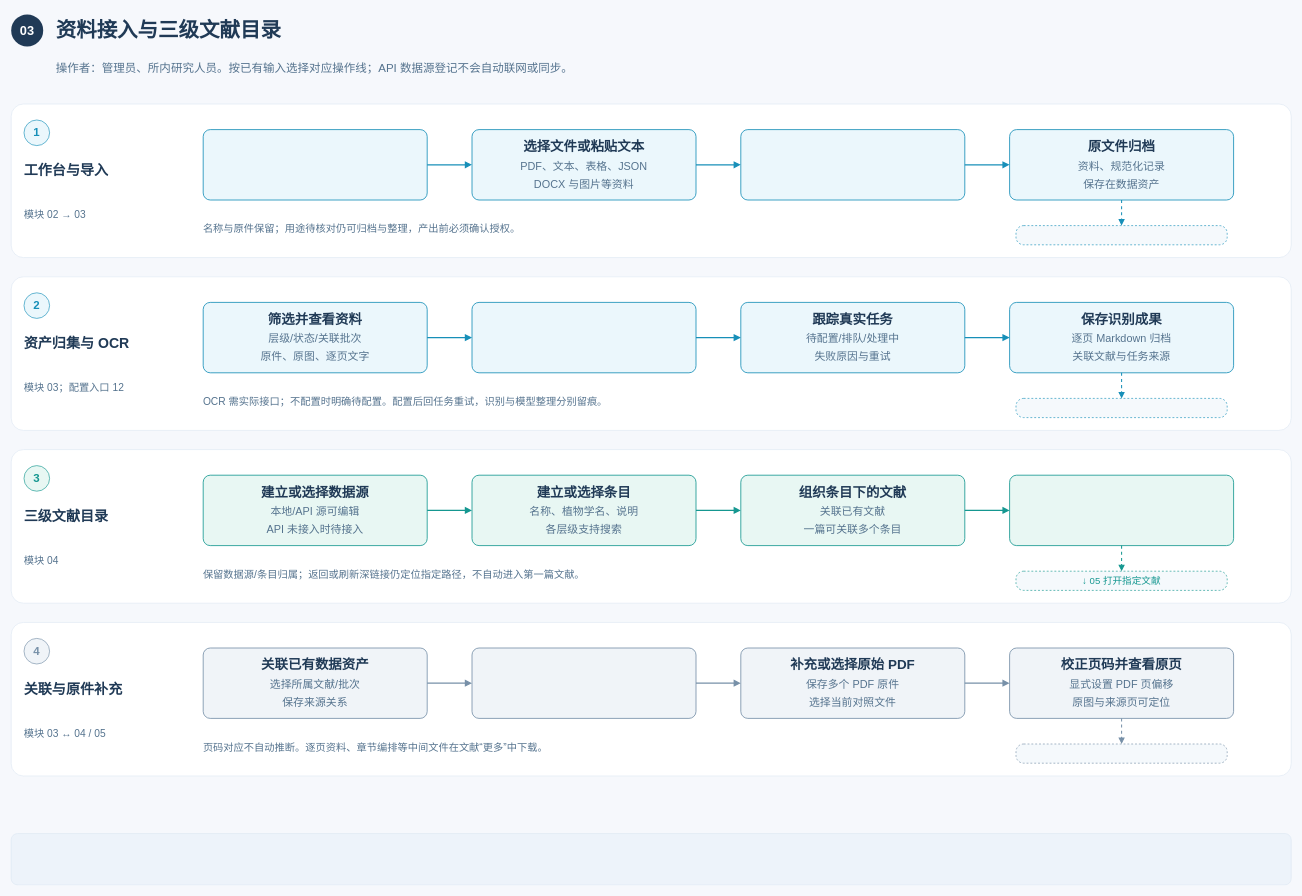
Some shapes in this 1302 by 896 pixel diagram are drawn without their labels. The shapes that lost their labels are listed below. From the top down, each one's box as (x1, y1, x2, y2) in pixels, then its label:
(202, 129, 427, 200): 选择快捷入口 工作台看资料/文献概况 导入或打开文献管理
(740, 129, 965, 200): 登记用途与授权 训练/知识库/两者 导入后可选择立即解析
(1015, 225, 1227, 245): ↓ 03 数据资产
(471, 302, 696, 373): 选择处理方式 文字/表格直接解析 PDF/图像提交 OCR
(1015, 398, 1227, 418): ↓ 04 文献目录 / 05 章节
(1009, 474, 1234, 546): 在条目中导入 文献文件夹或 ZIP 逐页 MD/JSON＋images
(471, 647, 696, 719): 普通文本转入文献 未关联 MD/TXT 可转入 保留原始资料关联
(1015, 743, 1227, 763): ↓ 05 双栏章节整理
(11, 833, 1291, 885): API 源当前只登记名称、说明与接口地址；需补接口信息后才能开发接入。初始示例归属与普通文献使用相同目录结构。
